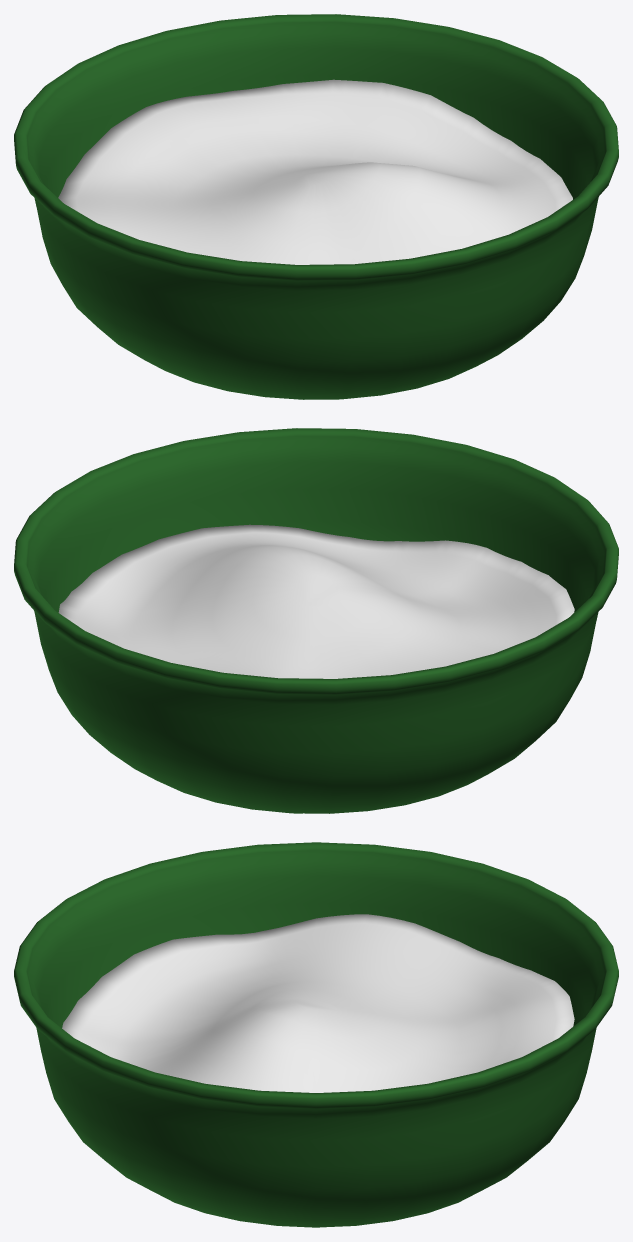
File: Pot.fbx
The picture shows the model from 3 angles, top to bottom: view 1: azimuth 30°, elevation 25°; view 2: azimuth 150°, elevation 25°; view 3: azimuth 270°, elevation 25°; orthographic projection.
Visible parts, largest first — view 1: Cylinder.007; view 2: Cylinder.007; view 3: Cylinder.007.
Boxes of the visible parts, x1,y1,x2,y2 form: Cylinder.007: (14, 14, 618, 399); Cylinder.007: (14, 428, 618, 813); Cylinder.007: (14, 842, 618, 1227).
Bounding box in the file's own units: 80.97 × 80.97 × 27.42.
2 materials, 1 textured.
